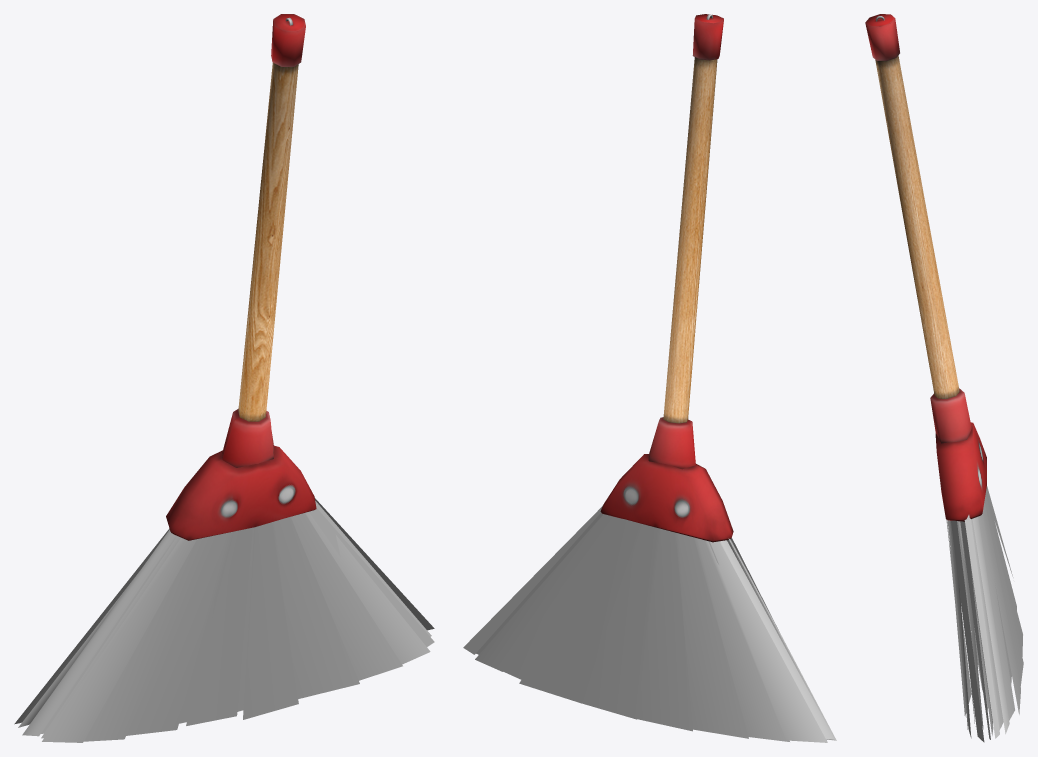
3 renders of one model, left to right at view 1: azimuth 30°, elevation 25°; view 2: azimuth 150°, elevation 25°; view 3: azimuth 270°, elevation 25°, orthographic. The views are drawn at different scales.
Visible parts, largest first — view 1: _TZ_LM, _pasted__polySurface143, _pasted__polySurface142, _pasted__polySurface160, _pasted__polySurface141, _pasted__polySurface158, _pasted__polySurface159, _pasted__polySurface144, _pasted__polySurface145, _pasted__polySurface157, _pasted__polySurface135, _pasted__polySurface155 (+5 smaller); view 2: _TZ_LM, _pasted__polySurface150, _pasted__polySurface152, _pasted__polySurface153, _pasted__polySurface151, _pasted__polySurface155, _pasted__polySurface154, _pasted__polySurface148, _pasted__polySurface149, _pasted__polySurface156, _pasted__polySurface147, _pasted__polySurface157 (+1 smaller); view 3: _TZ_LM, _pasted__polySurface149, _pasted__polySurface135, _pasted__polySurface147, _pasted__polySurface148, _pasted__polySurface150, _pasted__polySurface151, _pasted__polySurface146, _pasted__polySurface145, _pasted__polySurface152, _pasted__polySurface143, _pasted__polySurface134 (+4 smaller).
Part boxes in pixels (x1,y1,x2,y2): _TZ_LM: [166, 14, 316, 540]; _pasted__polySurface143: [272, 517, 359, 698]; _pasted__polySurface142: [243, 522, 298, 719]; _pasted__polySurface160: [126, 532, 232, 735]; _pasted__polySurface141: [186, 527, 252, 725]; _pasted__polySurface158: [42, 537, 196, 742]; _pasted__polySurface159: [84, 536, 212, 741]; _pasted__polySurface144: [290, 513, 402, 680]; _pasted__polySurface145: [304, 512, 430, 664]; _pasted__polySurface157: [22, 529, 175, 736]; _pasted__polySurface135: [309, 508, 434, 646]; _pasted__polySurface155: [14, 528, 169, 724]; _TZ_LM: [600, 14, 733, 542]; _pasted__polySurface150: [519, 518, 639, 703]; _pasted__polySurface152: [637, 528, 692, 731]; _pasted__polySurface153: [674, 532, 748, 738]; _pasted__polySurface151: [583, 523, 656, 719]; _pasted__polySurface155: [705, 540, 827, 742]; _pasted__polySurface154: [692, 537, 789, 741]; _pasted__polySurface148: [475, 514, 611, 671]; _pasted__polySurface149: [503, 516, 621, 679]; _pasted__polySurface156: [719, 540, 834, 738]; _pasted__polySurface147: [463, 505, 603, 654]; _pasted__polySurface157: [728, 538, 836, 740]; _TZ_LM: [865, 14, 986, 521]; _pasted__polySurface149: [978, 512, 1014, 720]; _pasted__polySurface135: [951, 520, 984, 742]; _pasted__polySurface147: [964, 515, 999, 738]; _pasted__polySurface148: [972, 516, 1009, 734]; _pasted__polySurface150: [983, 501, 1020, 714]; _pasted__polySurface151: [984, 494, 1023, 685]; _pasted__polySurface146: [960, 521, 990, 739]; _pasted__polySurface145: [950, 520, 971, 738]; _pasted__polySurface152: [985, 493, 1022, 656]; _pasted__polySurface143: [948, 522, 971, 716]; _pasted__polySurface134: [971, 519, 1000, 729].
Bounding box in the file's own units: 8.97 × 15.18 × 3.33.
